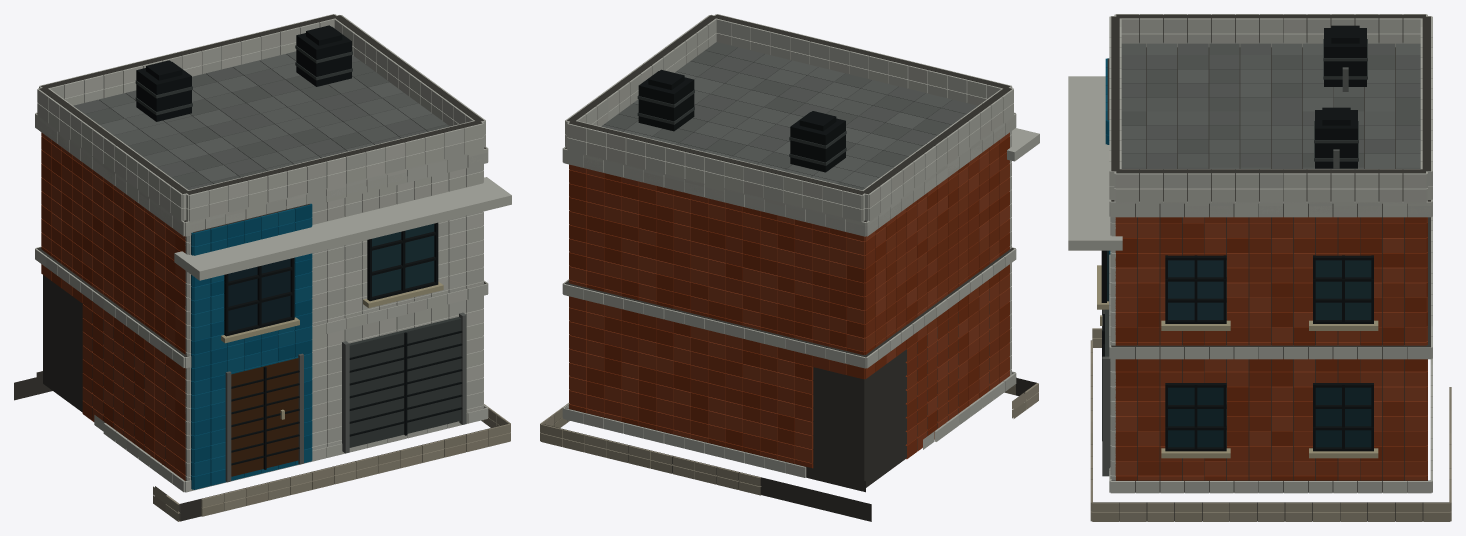
The model's file is SM_StreetFrontage_049.fbx.
The picture shows the model from 3 angles, left to right: view 1: azimuth 30°, elevation 25°; view 2: azimuth 150°, elevation 25°; view 3: azimuth 270°, elevation 25°; orthographic projection. The views are drawn at different scales.
Parts seen in each view (by area): view 1: SM_StreetFrontage_049; view 2: SM_StreetFrontage_049; view 3: SM_StreetFrontage_049.
Part boxes in pixels (bbox=[...]): SM_StreetFrontage_049: bbox=[14, 14, 511, 521]; SM_StreetFrontage_049: bbox=[540, 14, 1039, 521]; SM_StreetFrontage_049: bbox=[1068, 14, 1451, 521].
Size of the model in its own units: 8 by 7.4 by 7.88.
